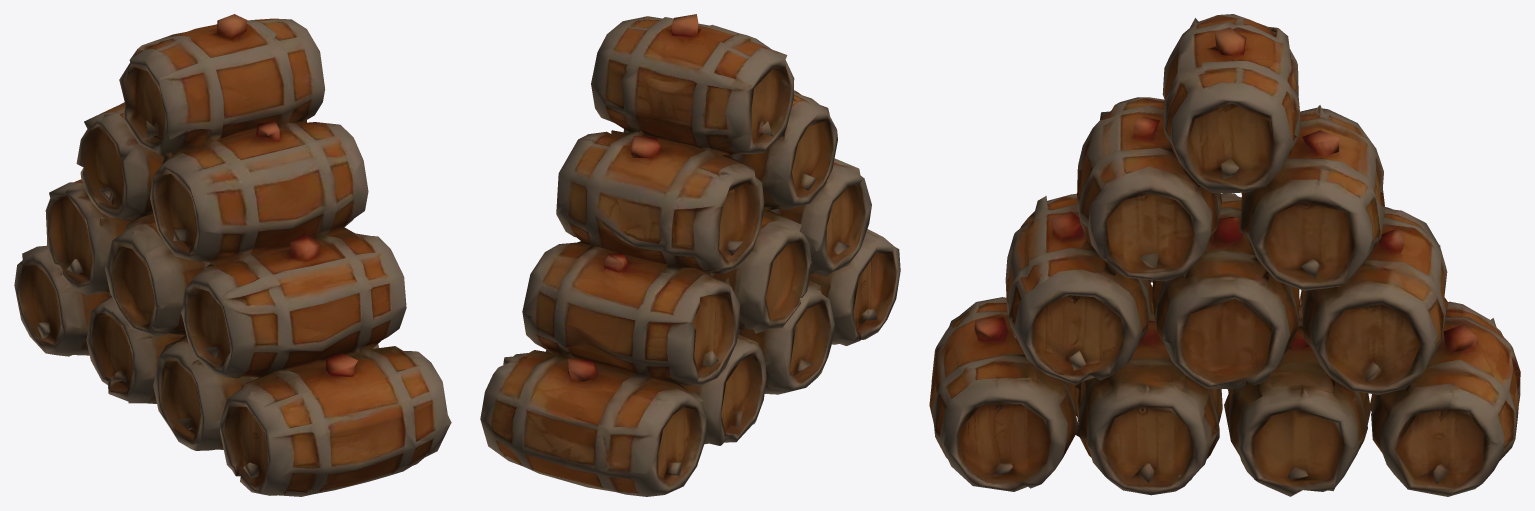
File: barrels.glb
3 views of the same model, side by side, from view 1: azimuth 30°, elevation 25°; view 2: azimuth 150°, elevation 25°; view 3: azimuth 270°, elevation 25° (orthographic). The views are drawn at different scales.
Parts seen in each view (by area): view 1: barrels-0; view 2: barrels-0; view 3: barrels-0.
Boxes of the visible parts, box(x1,y1,x2,y2) form: barrels-0: box(14, 14, 451, 496); barrels-0: box(480, 14, 900, 496); barrels-0: box(929, 14, 1520, 496).
Bounding box in the file's own units: 0.4097 × 0.8027 × 1.
Materials: 1 (1 with a texture image).
